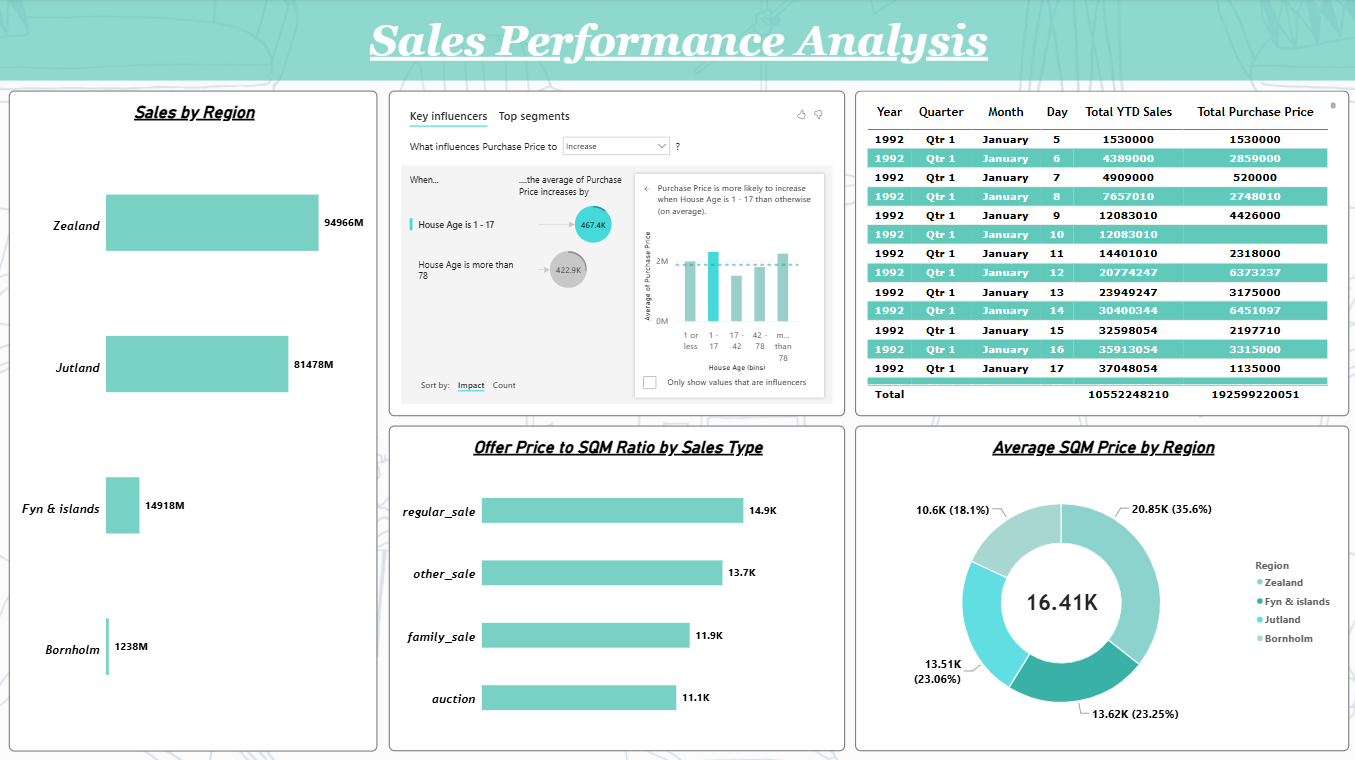

Layout of this report page (visuals, bound fields, positions):
{"tool":"powerbi","page":{"name":"Sales Performance Page","canvas":[1920,1080],"ordinal":1},"visuals":[{"type":"shape","box":[0,0,1920.4,116.9],"z":0},{"type":"barChart","title":"Sales by Region","fields":{"Category":["HousingData.region"],"Y":["Measures Table.Sales by Region"]},"box":[12.2,130.8,521.5,934.9],"z":1},{"type":"tableEx","fields":{"Values":["HousingData.date.Variation.Date Hierarchy.Year","HousingData.date.Variation.Date Hierarchy.Quarter","HousingData.date.Variation.Date Hierarchy.Month","HousingData.date.Variation.Date Hierarchy.Day","Measures Table.Total YTD Sales","Sum(HousingData.purchase_price)"]},"box":[1208.7,130.8,699.4,461],"z":2},{"type":"donutChart","fields":{"Category":["HousingData.region"],"Y":["Measures Table.Average SQM Price"]},"box":[1208.7,605.2,699.4,461],"z":3},{"type":"keyDriversVisual","fields":{"ExplainBy":["Sum(HousingData.house_age)"],"Target":["HousingData.purchase_price"]},"box":[549.4,130.8,645.4,460.5],"z":4},{"type":"barChart","title":"Offer Price to SQM Ratio by Sales Type","fields":{"Category":["HousingData.sales_type"],"Y":["Measures Table.Offer Price to SQM Ratio"]},"box":[549.4,605.2,645.4,460.5],"z":5}]}

Visuals, with their boxes in screenshot pixels (x1, y1, x2, y2), scaled from the page's 1920x1080 canvas onto the 1355x760 screenshot:
shape: Rect(0, 0, 1354, 82)
"Sales by Region" barChart: Rect(9, 92, 377, 750)
tableEx - HousingData.date.Variation.Date Hierarchy.Year x HousingData.date.Variation.Date Hierarchy.Quarter: Rect(853, 92, 1347, 416)
donutChart - HousingData.region x Measures Table.Average SQM Price: Rect(853, 426, 1347, 750)
keyDriversVisual - Sum(HousingData.house_age) x HousingData.purchase_price: Rect(388, 92, 843, 416)
"Offer Price to SQM Ratio by Sales Type" barChart: Rect(388, 426, 843, 750)
